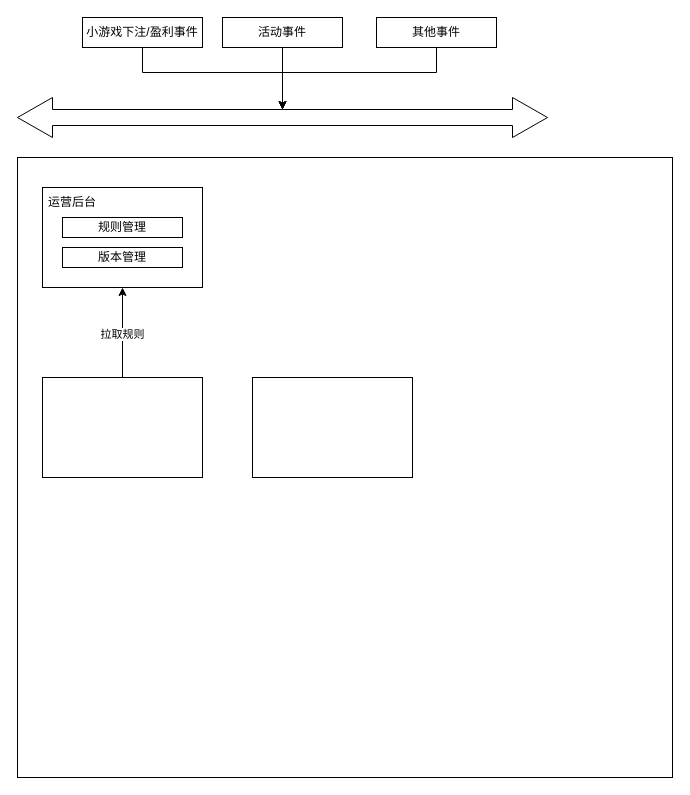
Image size: 690x795. Some labels were removed from this diagram. Here are the shapes that lost their labels. From the top down, the box of each, then its label:
(16, 96, 548, 138): 事件总线（MQ）
(42, 376, 202, 478): 规则引擎
(252, 376, 412, 478): 业务组件
